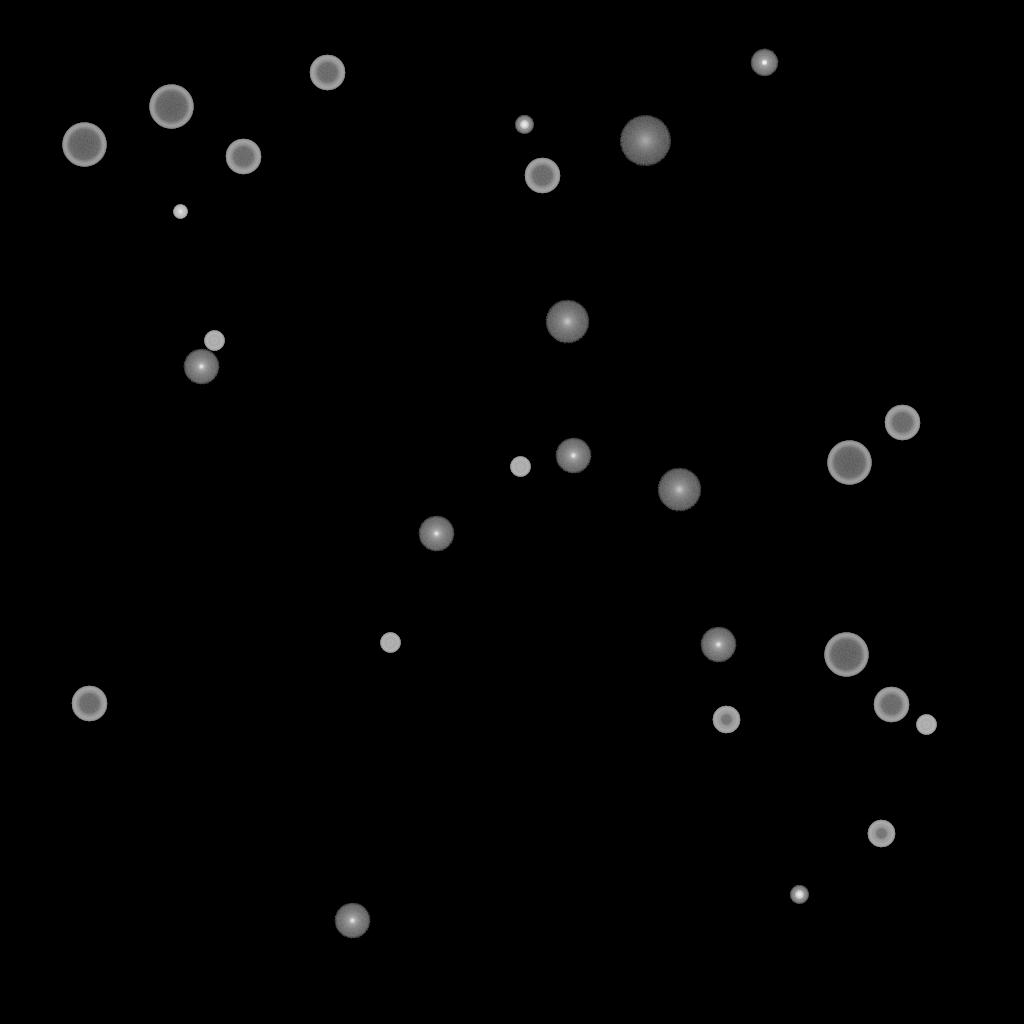depth:-10: (750, 49, 778, 77)
depth:-20: (515, 116, 533, 134), (790, 886, 808, 904)
depth:-30: (173, 205, 187, 219)
depth:-40: (510, 457, 530, 477), (380, 633, 400, 653), (204, 331, 224, 351), (916, 715, 936, 735)
depth:-50: (712, 706, 740, 734), (867, 820, 895, 848)
depth:-60: (873, 687, 909, 723), (524, 158, 560, 194), (309, 55, 345, 91), (884, 405, 920, 441), (71, 686, 107, 722), (225, 139, 261, 175)
depth:-70: (827, 441, 871, 485), (62, 123, 106, 167), (149, 85, 193, 129), (824, 633, 868, 677)
depth:0: (555, 438, 591, 474), (700, 627, 736, 663), (418, 516, 454, 552), (183, 349, 219, 385), (334, 903, 370, 939)
depth:10: (545, 300, 589, 344), (657, 468, 701, 512)
depth:20: (619, 116, 671, 166)
